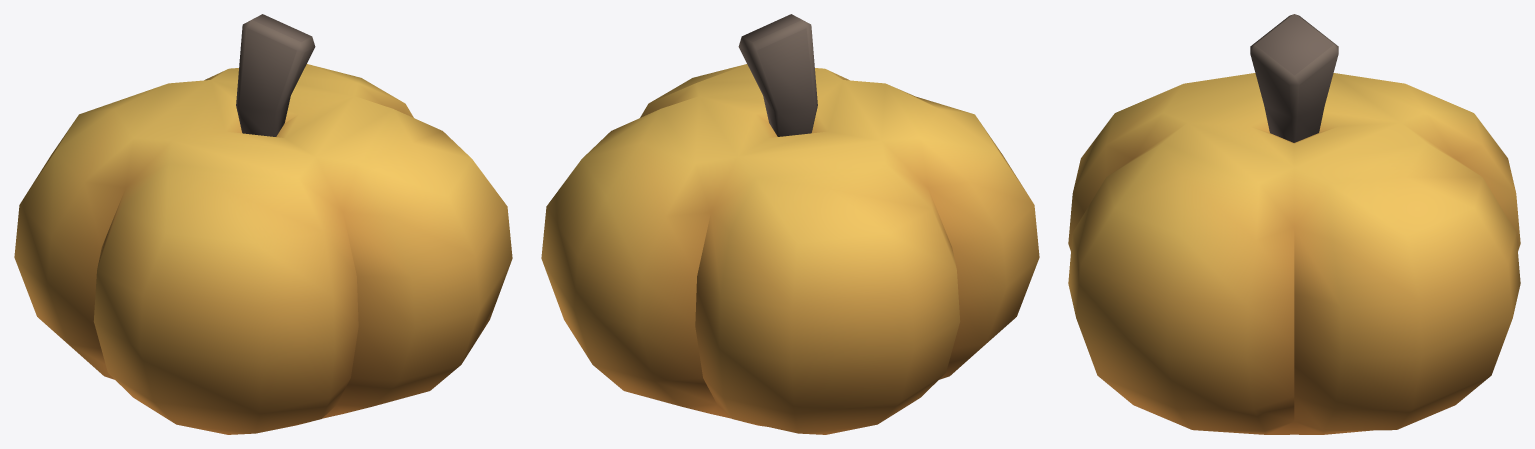
File: pumpkin_yellow_small.glb
The picture shows the model from 3 angles, left to right: view 1: azimuth 30°, elevation 25°; view 2: azimuth 150°, elevation 25°; view 3: azimuth 270°, elevation 25°; orthographic projection.
Visible parts, largest first — view 1: pumpkin_yellow_small; view 2: pumpkin_yellow_small; view 3: pumpkin_yellow_small.
Boxes of the visible parts, bbox=[...] form: pumpkin_yellow_small: bbox=[14, 14, 512, 434]; pumpkin_yellow_small: bbox=[541, 14, 1039, 434]; pumpkin_yellow_small: bbox=[1068, 14, 1520, 434].
Size of the model in its own units: 0.6 by 0.55 by 0.6.
Materials: 1 (1 with a texture image).
